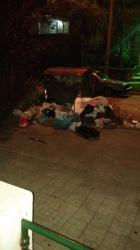Dechets: (12, 96, 137, 140)
Trash: (44, 67, 94, 114)
